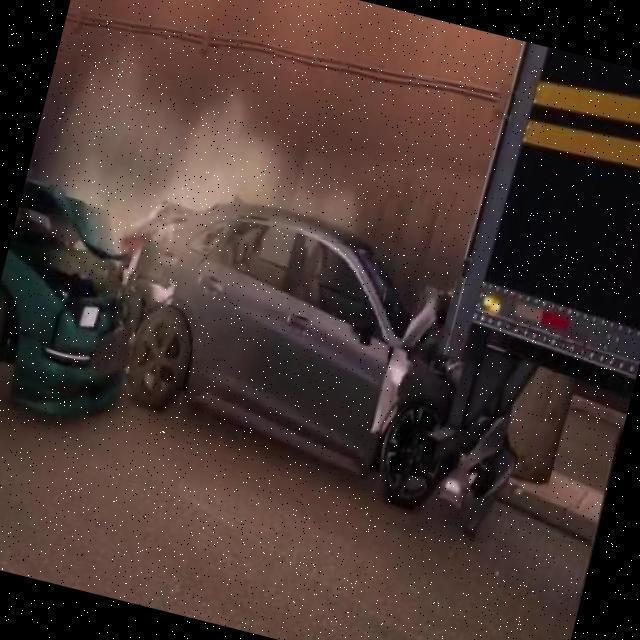accident: (0, 70, 510, 556)
